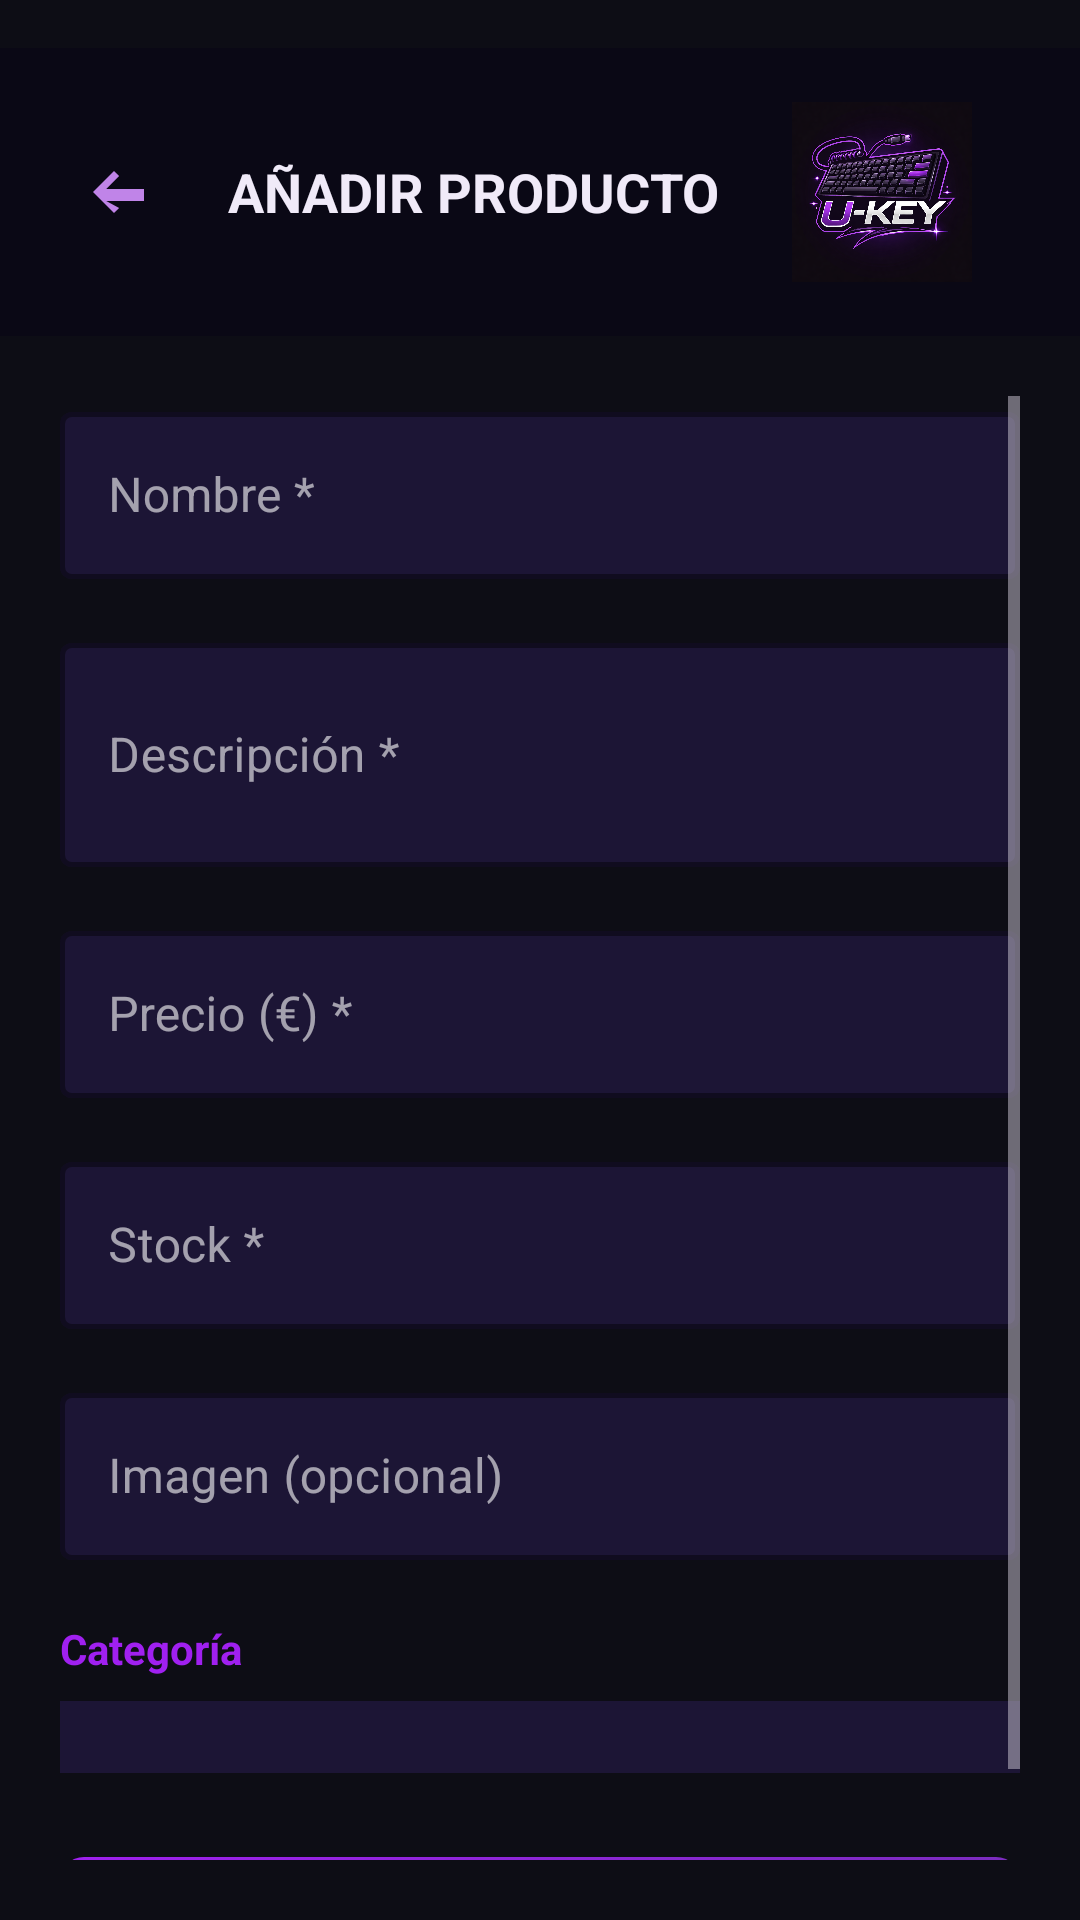

Where icons sit on this 1080×1920 app screen, as bbox(x1, y1, x2, y2):
Volver: bbox(93, 171, 144, 213)
